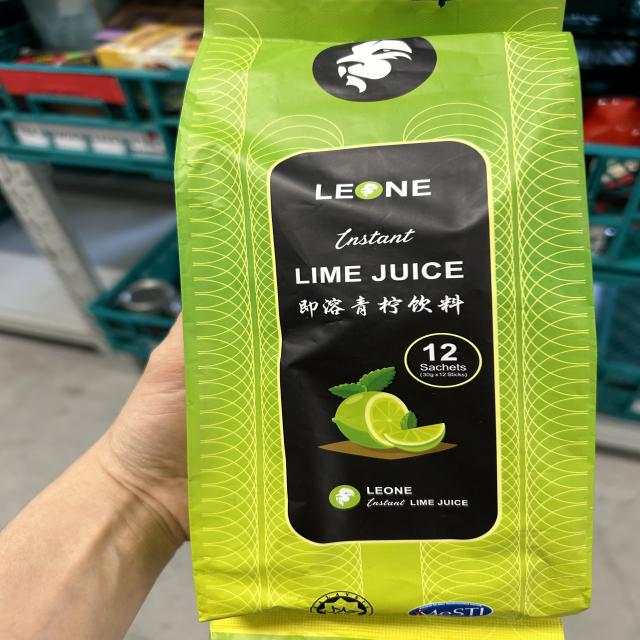object_name: (180, 13, 586, 637)
